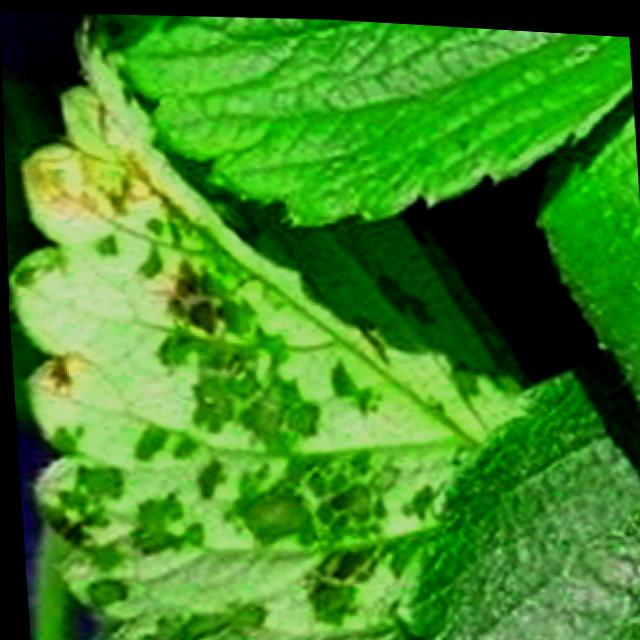Angular Leafspot: (6, 12, 537, 640)
